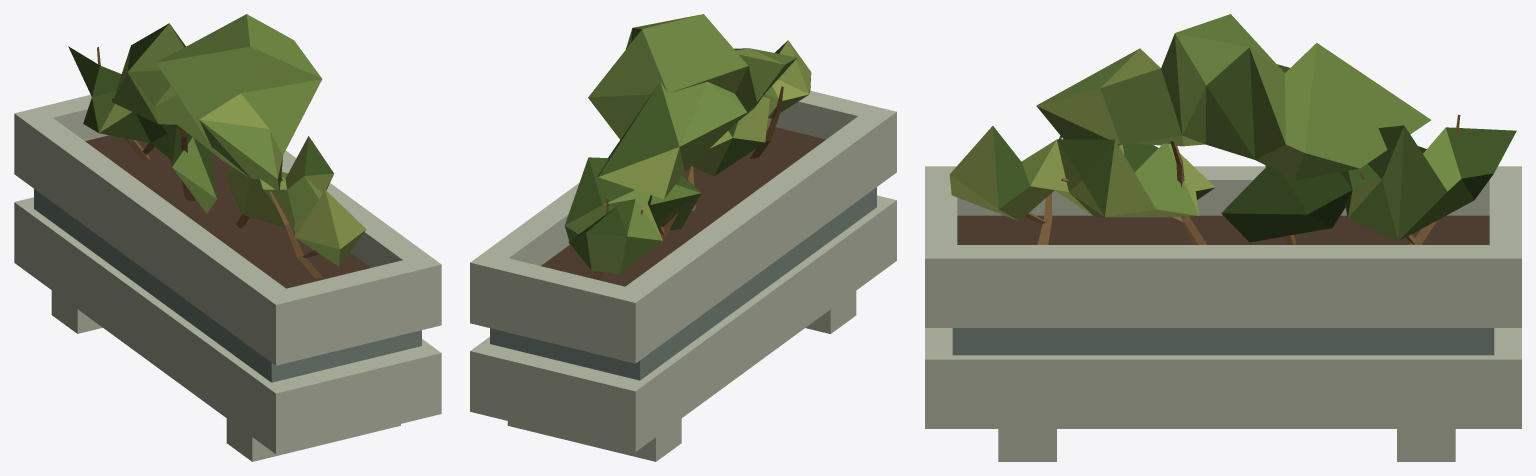
Rendered from BushPot.fbx.
The picture shows the model from 3 angles, left to right: view 1: azimuth 30°, elevation 25°; view 2: azimuth 150°, elevation 25°; view 3: azimuth 270°, elevation 25°; orthographic projection. The views are drawn at different scales.
Visible parts, largest first — view 1: Cube; view 2: Cube; view 3: Cube.
Part boxes in pixels (x1,y1,x2,y2): Cube: [14, 14, 441, 461]; Cube: [470, 14, 896, 461]; Cube: [925, 14, 1521, 461].
Size of the model in its own units: 127 by 250 by 347.
